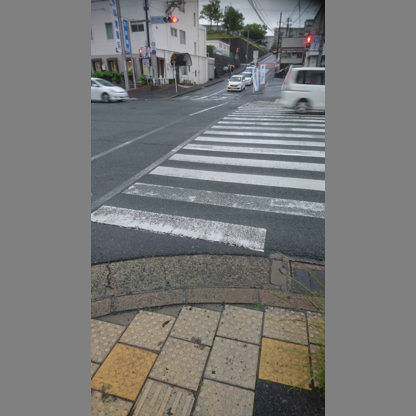brailleblock: (89, 304, 324, 416)
crosswalk: (145, 171, 325, 256), (207, 128, 324, 169), (229, 116, 324, 136)
signal: (303, 32, 312, 48)
